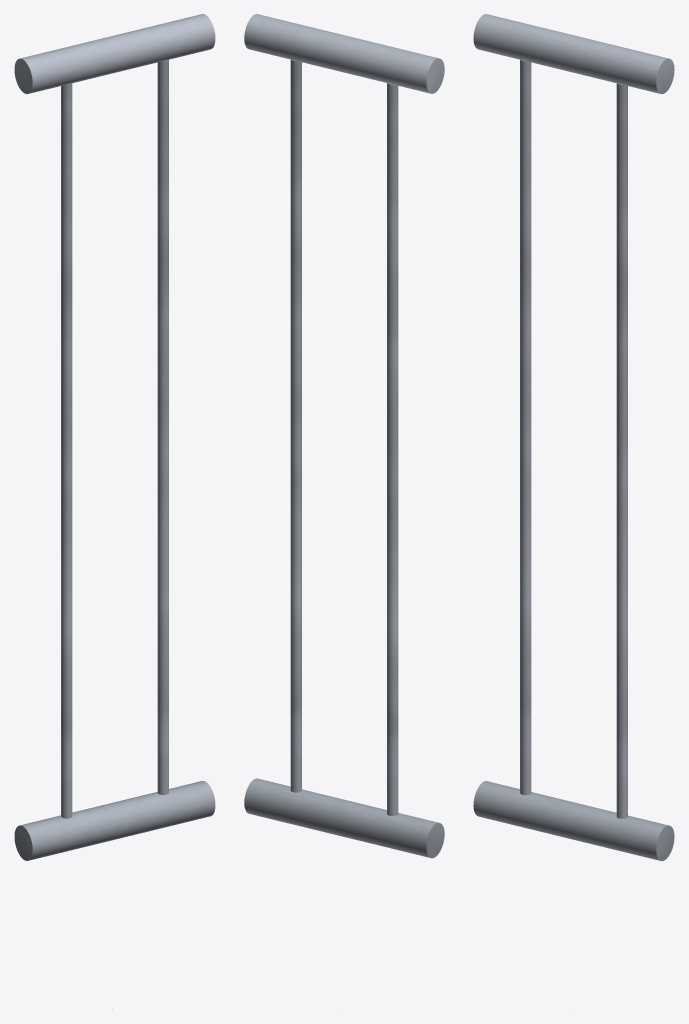
Rendered from gelaender-verbindung-gerade.gltf.
The picture shows the model from 3 angles, left to right: view 1: azimuth 30°, elevation 25°; view 2: azimuth 150°, elevation 25°; view 3: azimuth 330°, elevation 25°; orthographic projection.
Visible parts, largest first — view 1: SK0021_Geländer-Verbindung_gerade.001; view 2: SK0021_Geländer-Verbindung_gerade.001; view 3: SK0021_Geländer-Verbindung_gerade.001.
Boxes of the visible parts, box(x1,y1,x2,y2) form: SK0021_Geländer-Verbindung_gerade.001: box(14, 14, 215, 1009); SK0021_Geländer-Verbindung_gerade.001: box(244, 14, 444, 858); SK0021_Geländer-Verbindung_gerade.001: box(473, 14, 674, 861).
Bounding box in the file's own units: 0.22 × 1.12 × 0.038.
2 materials, 2 textured.
